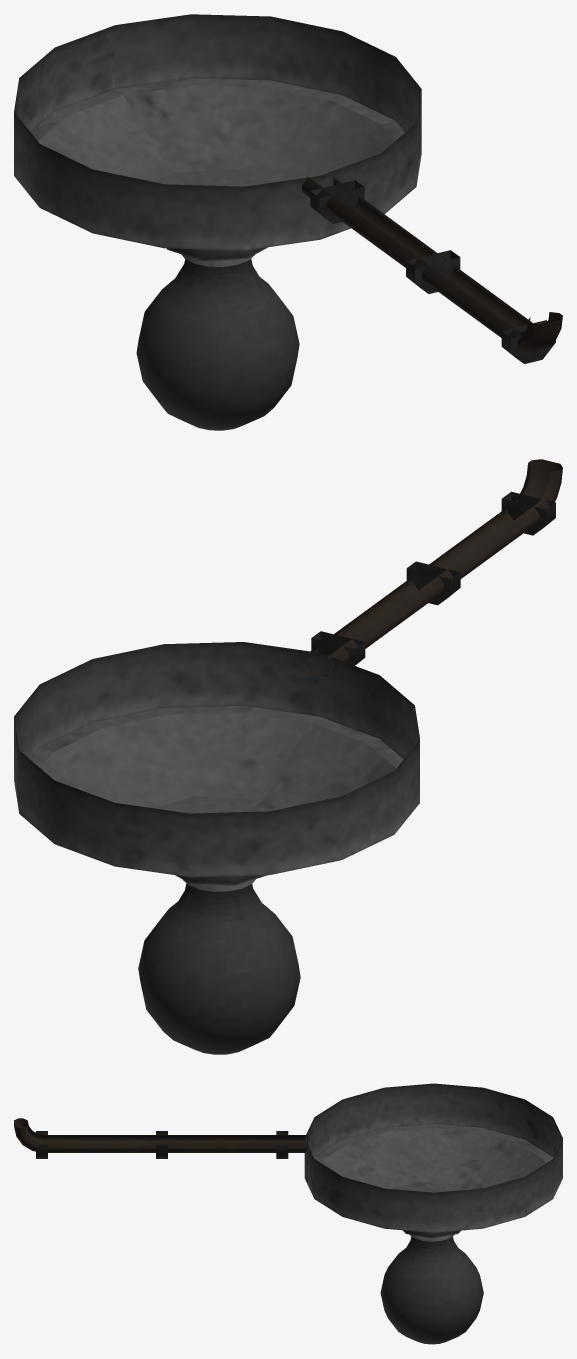
File: ceiling_lamp_mp_1_off.dae
The picture shows the model from 3 angles, top to bottom: view 1: azimuth 30°, elevation 25°; view 2: azimuth 150°, elevation 25°; view 3: azimuth 270°, elevation 25°; orthographic projection. The views are drawn at different scales.
Visible parts, largest first — view 1: ceiling_lamp_mp_1_off; view 2: ceiling_lamp_mp_1_off; view 3: ceiling_lamp_mp_1_off.
Boxes of the visible parts, x1,y1,x2,y2 form: ceiling_lamp_mp_1_off: (14, 14, 562, 430); ceiling_lamp_mp_1_off: (14, 459, 562, 1054); ceiling_lamp_mp_1_off: (14, 1083, 562, 1344).
Bounding box in the file's own units: 0.215 × 0.4568 × 0.1988.
Materials: 4 (4 with a texture image).
